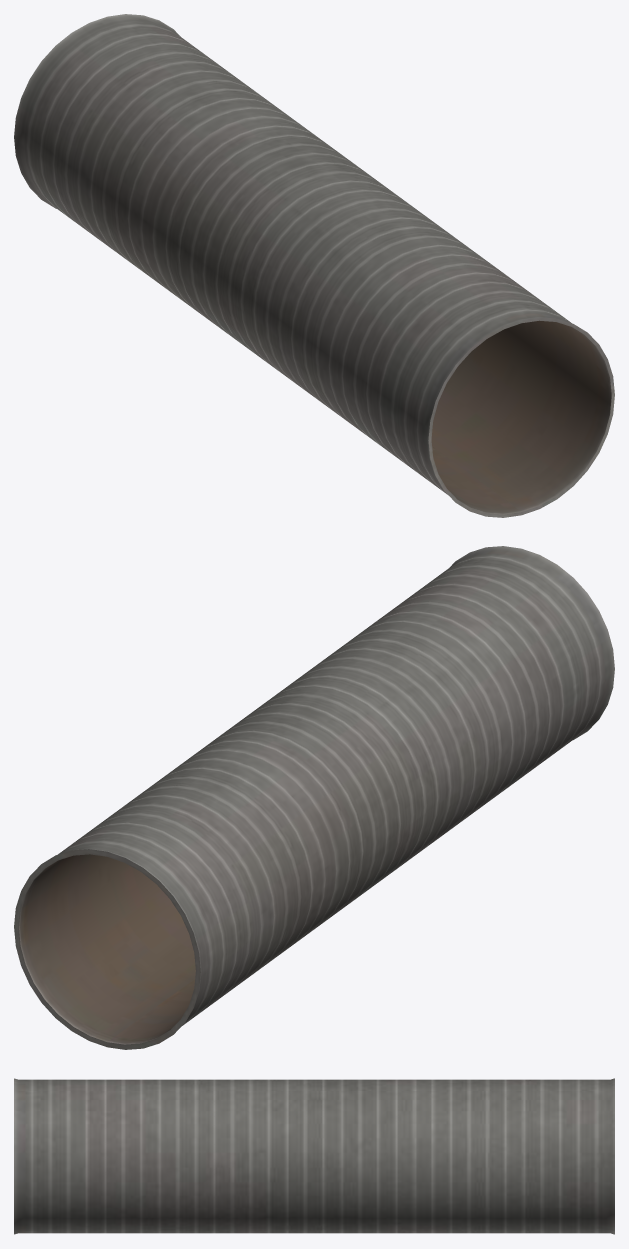
File: circular_triple.gltf
The picture shows the model from 3 angles, top to bottom: view 1: azimuth 30°, elevation 25°; view 2: azimuth 150°, elevation 25°; view 3: azimuth 270°, elevation 25°; orthographic projection. The views are drawn at different scales.
Visible parts, largest first — view 1: circular_triple; view 2: circular_triple; view 3: circular_triple.
Part boxes in pixels (left/top/right/bottom): circular_triple: left=14, top=14, right=614, bottom=517; circular_triple: left=14, top=546, right=614, bottom=1049; circular_triple: left=14, top=1078, right=614, bottom=1234.
Size of the model in its own units: 0.3704 by 0.3707 by 1.42.
1 material, 1 textured.
